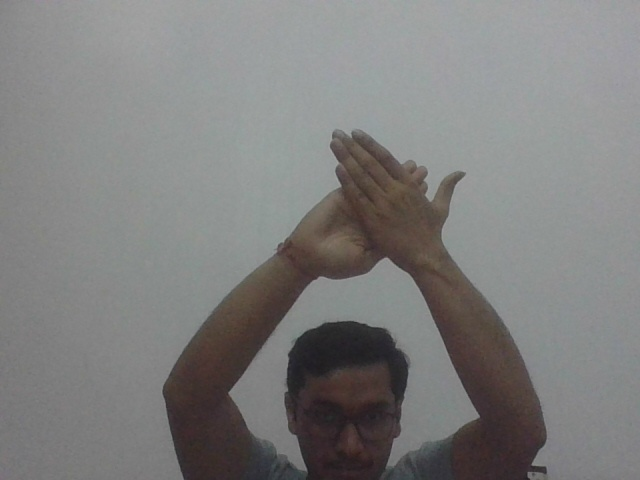H: (303, 126, 472, 283)
